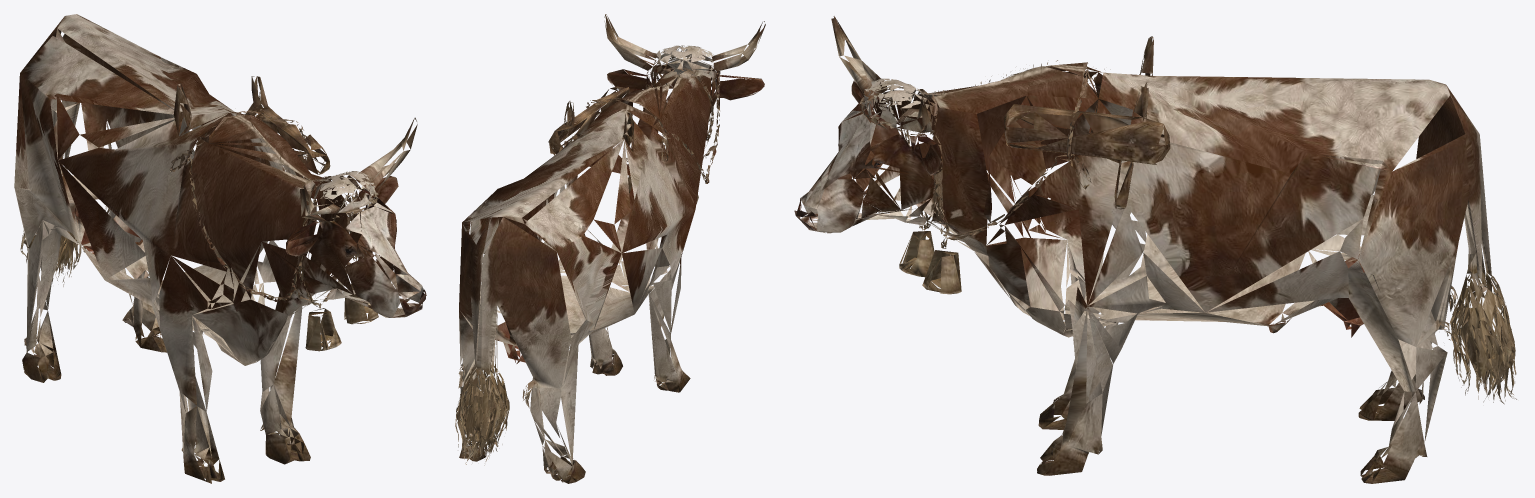
The model's file is ochse.glb.
3 renders of one model, left to right at view 1: azimuth 30°, elevation 25°; view 2: azimuth 150°, elevation 25°; view 3: azimuth 270°, elevation 25°, orthographic. The views are drawn at different scales.
Size of the model in its own units: 0.6359 by 1.18 by 1.9.
Materials: 1 (1 with a texture image).
